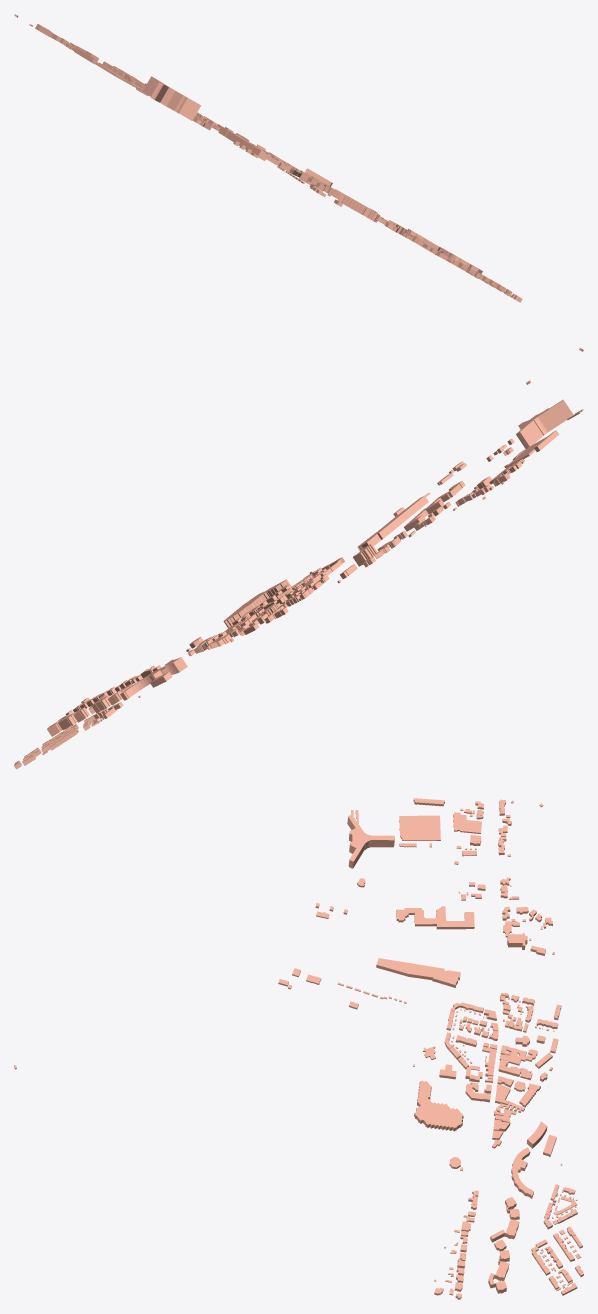
The picture shows the model from 3 angles, top to bottom: view 1: azimuth 30°, elevation 25°; view 2: azimuth 150°, elevation 25°; view 3: azimuth 270°, elevation 25°; orthographic projection. The views are drawn at different scales.
Size of the model in its own units: 969 by 749 by 1225.
